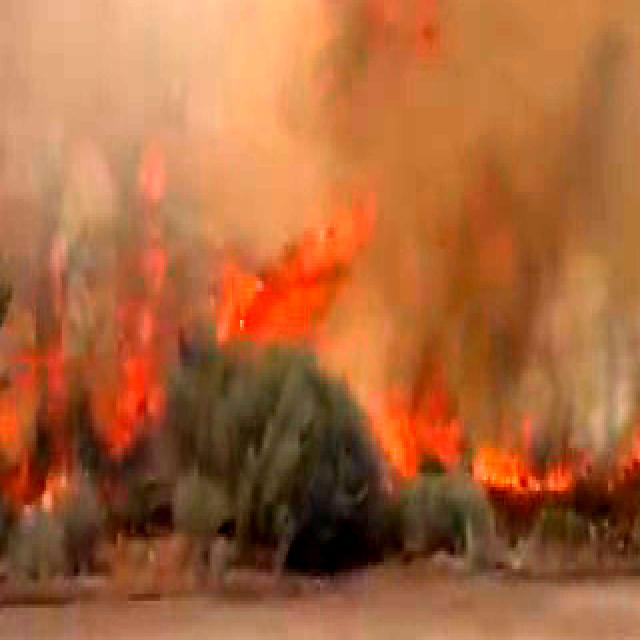fire: (186, 178, 640, 505), (0, 331, 100, 633)
smoke: (0, 0, 640, 167)
